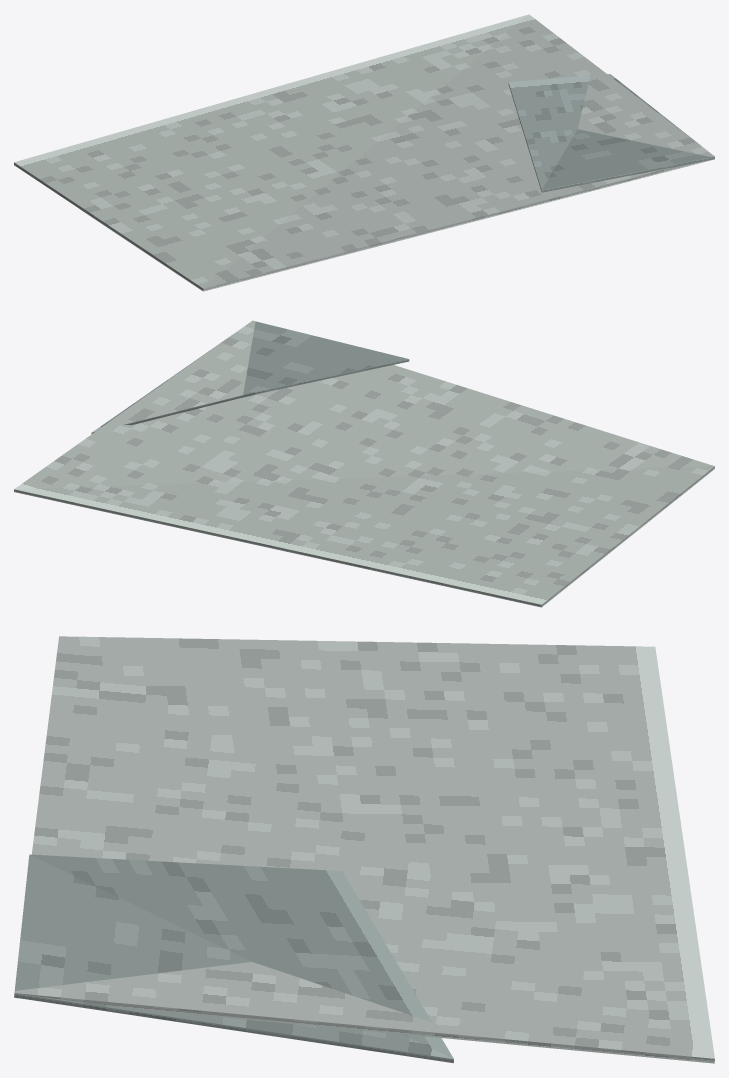
File: aluminum_foil.glb
3 renders of one model, top to bottom at view 1: azimuth 30°, elevation 25°; view 2: azimuth 150°, elevation 25°; view 3: azimuth 270°, elevation 25°, orthographic. The views are drawn at different scales.
Visible parts, largest first — view 1: block_folded foil sheet, block_overlapping foil corner; view 2: block_folded foil sheet, block_overlapping foil corner; view 3: block_folded foil sheet, block_overlapping foil corner.
Boxes of the visible parts, bbox=[...] form: block_folded foil sheet: bbox=[14, 14, 714, 291]; block_overlapping foil corner: bbox=[508, 74, 714, 192]; block_folded foil sheet: bbox=[14, 320, 714, 607]; block_overlapping foil corner: bbox=[91, 321, 409, 433]; block_folded foil sheet: bbox=[14, 636, 714, 1063]; block_overlapping foil corner: bbox=[14, 854, 453, 1063].
Bounding box in the file's own units: 0.133 × 0.0136 × 0.0941.
Materials: 1 (1 with a texture image).
